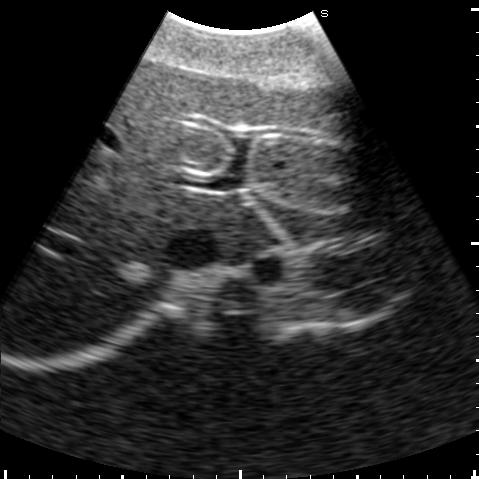IVC: (160, 227, 221, 268)
S1: (213, 195, 271, 263)
S2: (249, 185, 420, 242)
S3: (235, 79, 411, 209)
